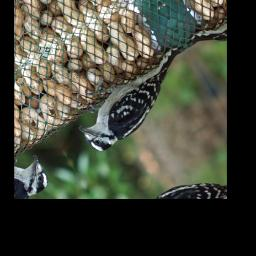Woodpecker: (61, 33, 211, 166)
